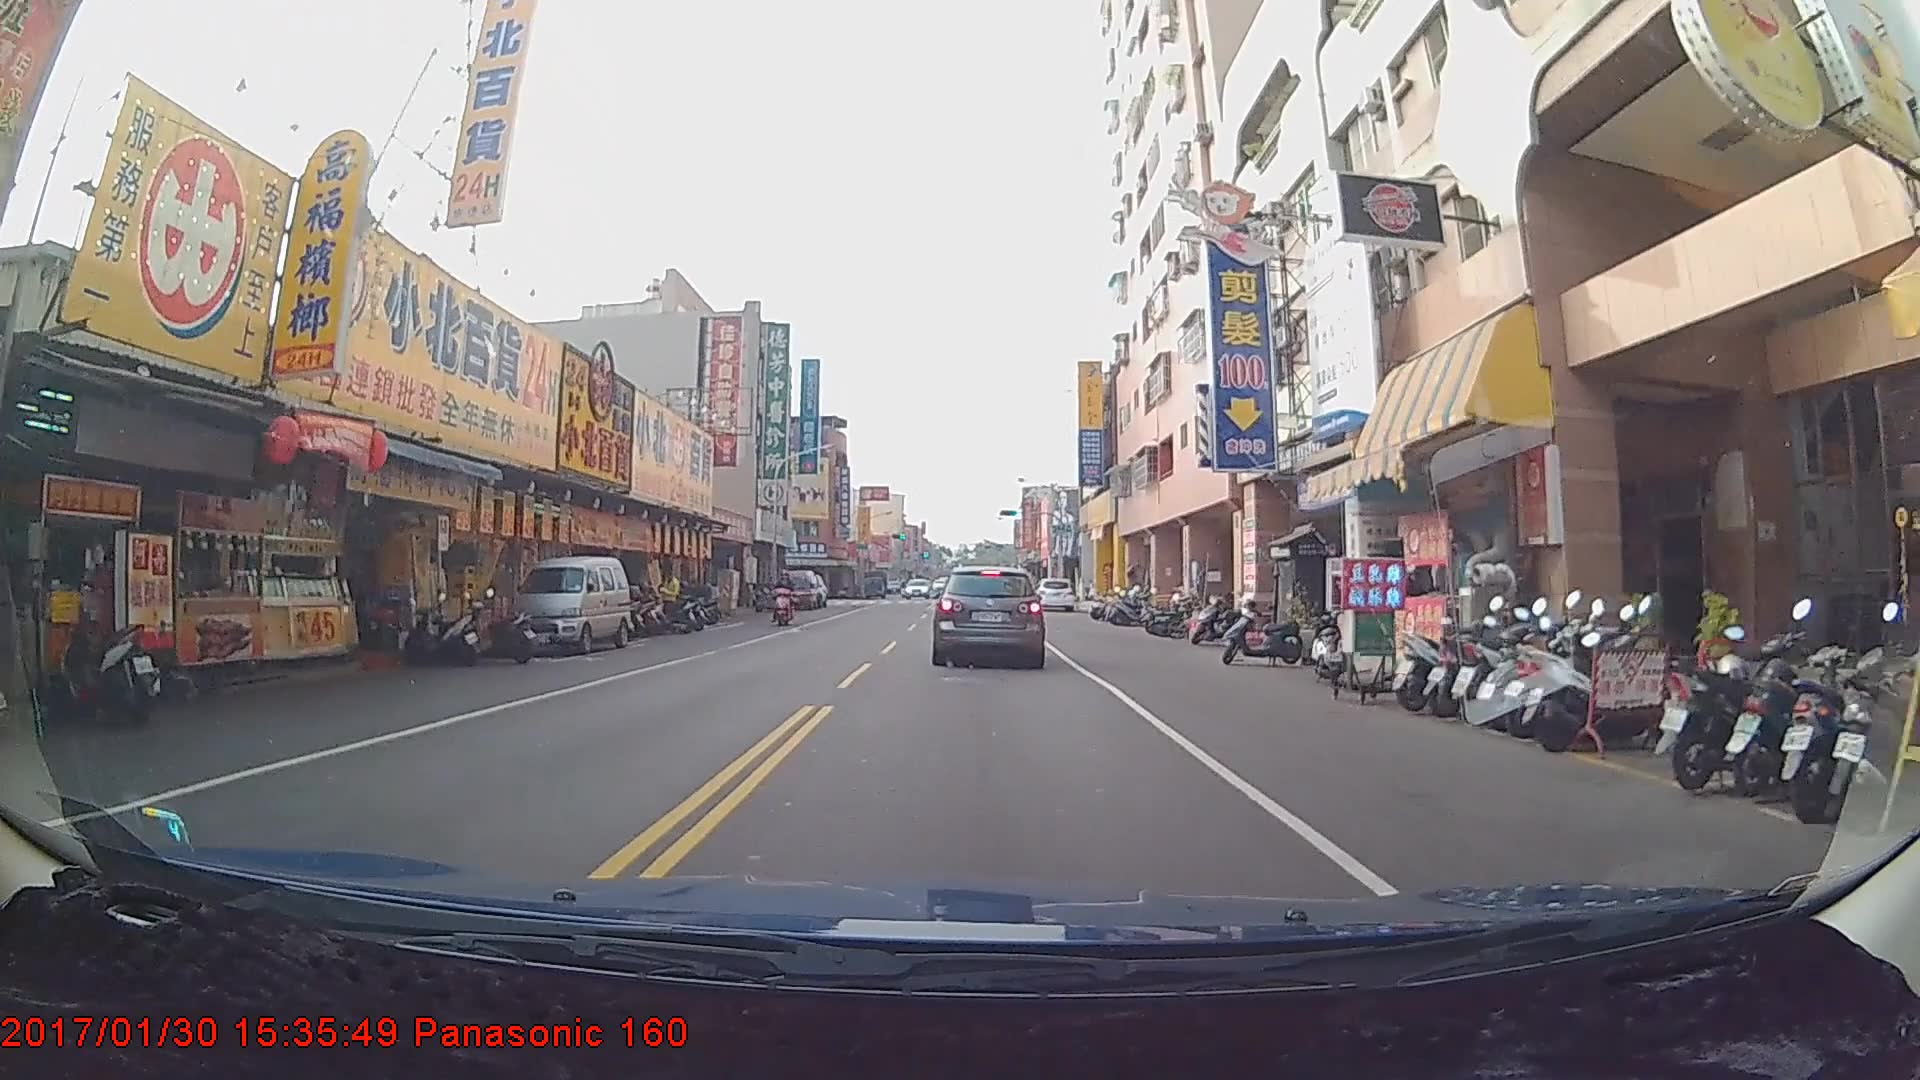pedestrian: (656, 570, 682, 629)
rider: (776, 569, 803, 628)
vehicle: (503, 557, 628, 656), (934, 562, 1045, 667), (780, 568, 819, 610), (1033, 578, 1075, 612), (904, 578, 930, 598)
